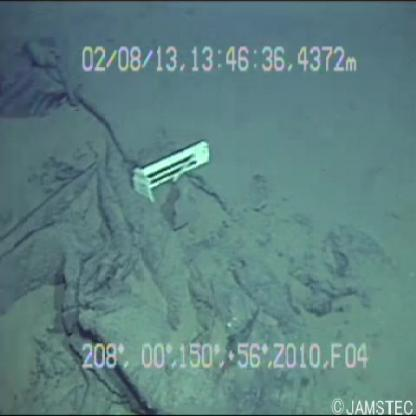Rác: (113, 124, 220, 212)
